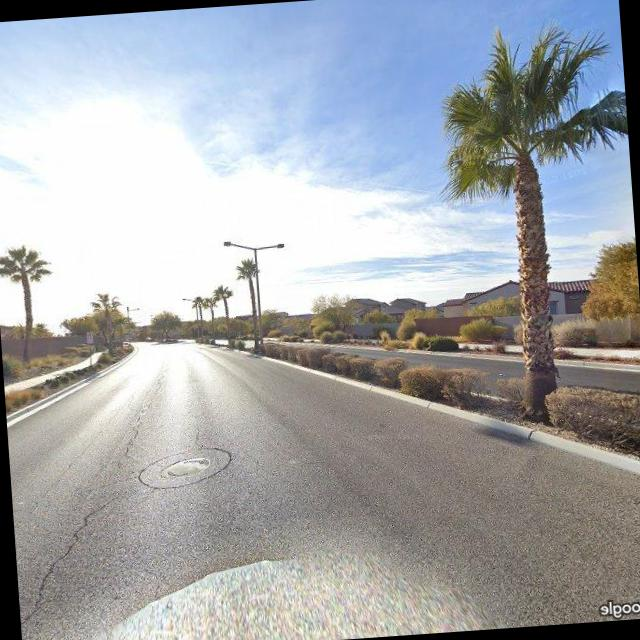pothole: (13, 497, 124, 638), (121, 403, 152, 459)
